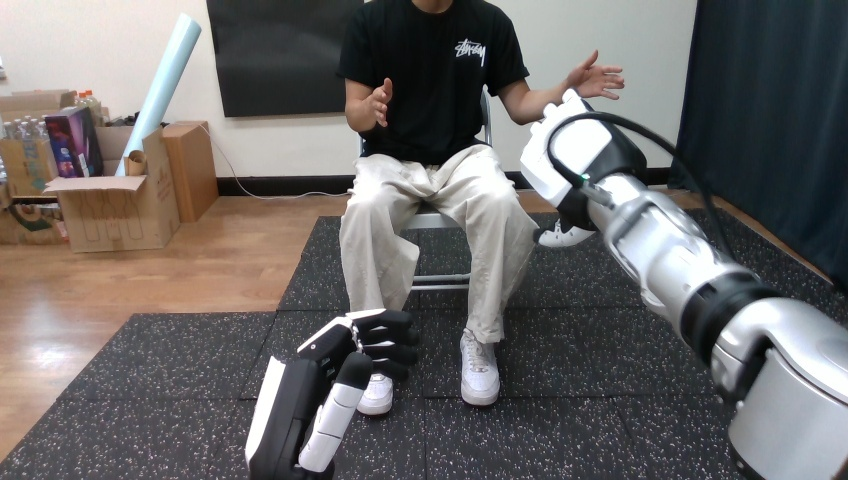left robot hand: (520, 91, 847, 478), (245, 308, 418, 479)
